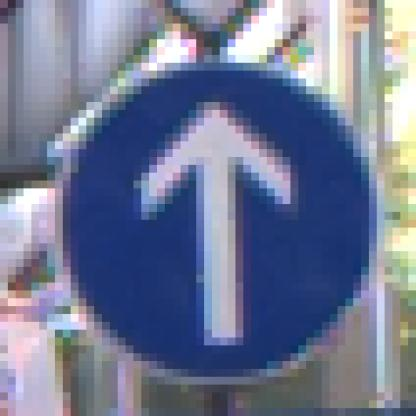AheadOnly: (48, 40, 370, 370)
